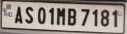character: (55, 7, 65, 26), (36, 7, 46, 25), (13, 5, 22, 24), (80, 8, 89, 27), (24, 6, 33, 24), (67, 8, 76, 25), (100, 9, 109, 26), (111, 9, 118, 28), (48, 7, 55, 25), (92, 8, 98, 27)
